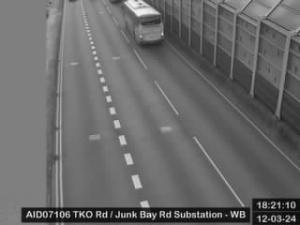bus: (121, 1, 165, 46)
